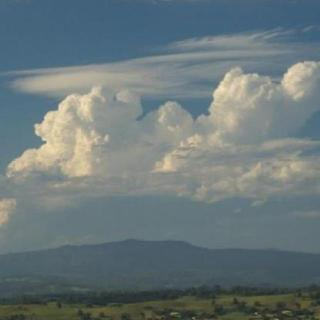Cumulus: (1, 23, 320, 231)
